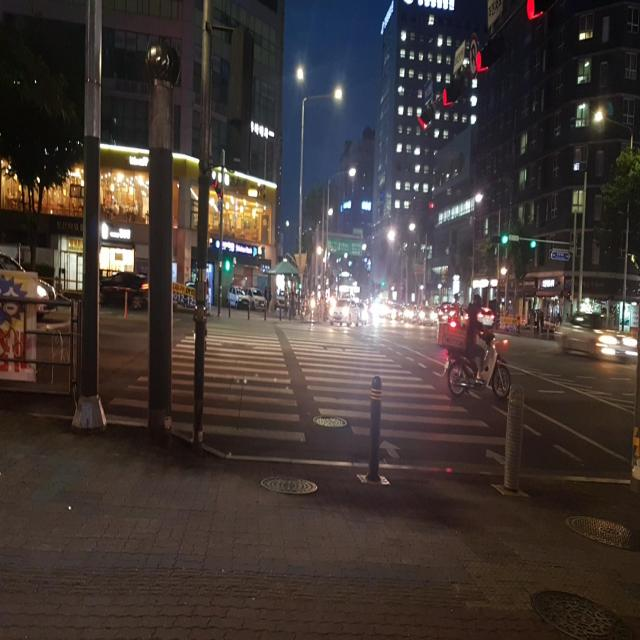횡단보도: (102, 318, 508, 468)
